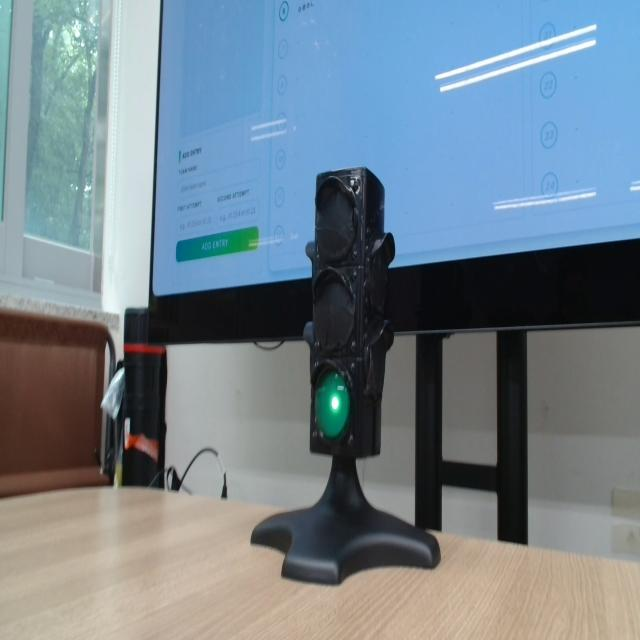green_light: (315, 370, 350, 439)
